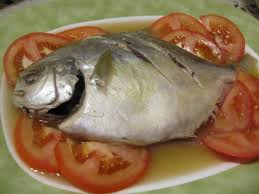Ikan Bawal: (13, 29, 259, 148)
